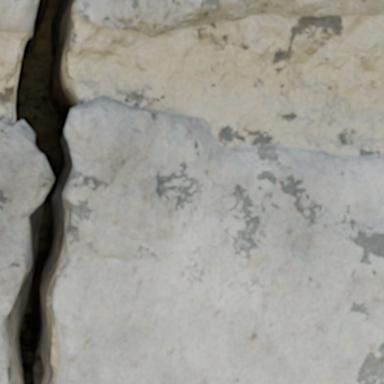broken_brick: (55, 95, 383, 383), (74, 0, 383, 37), (0, 121, 52, 329), (0, 0, 32, 33), (0, 337, 6, 383)
crack: (0, 0, 82, 383)
